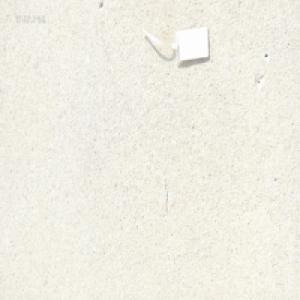LuggageTag: (138, 21, 211, 66)
